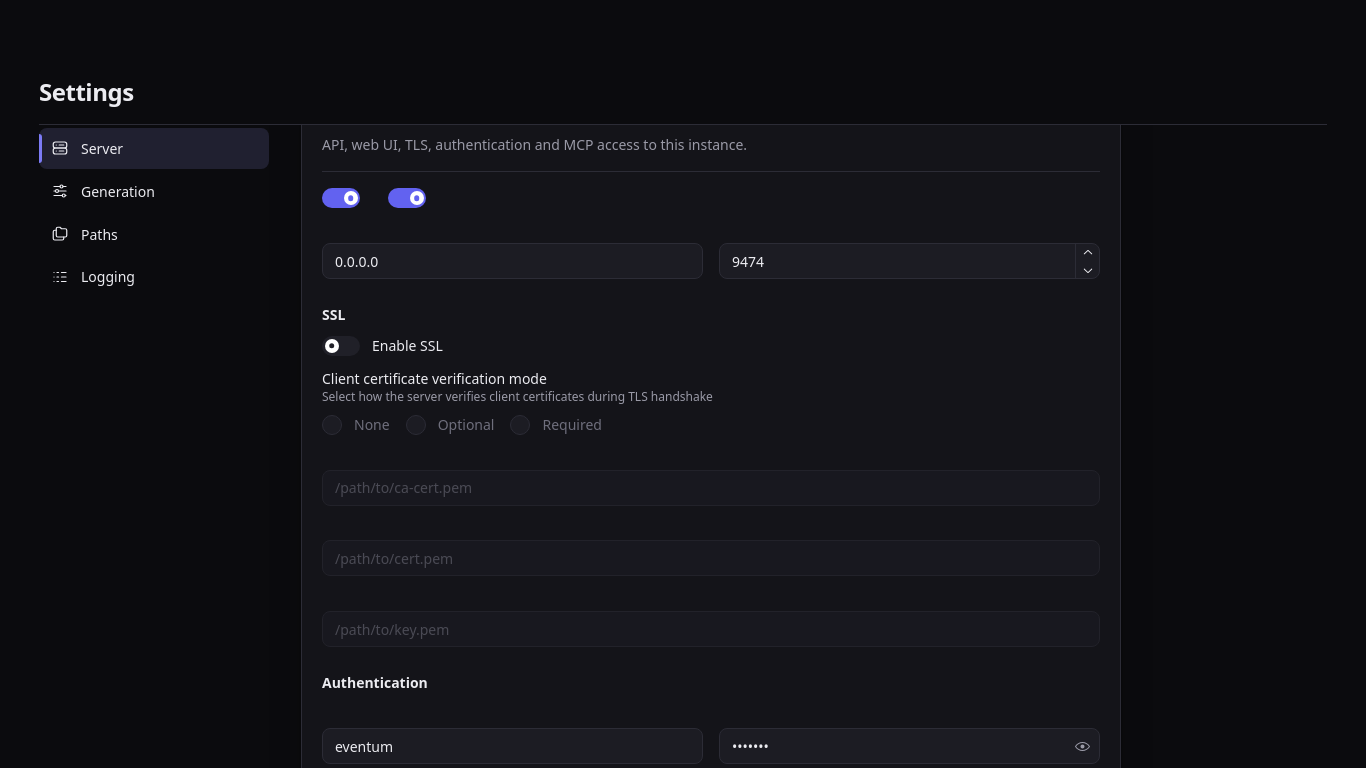
Test: SettingsPage › shows the stored generation defaults once that section is opened
Click the text "Generation" at {"x": 118, "y": 191}, box [81,182,155,201]
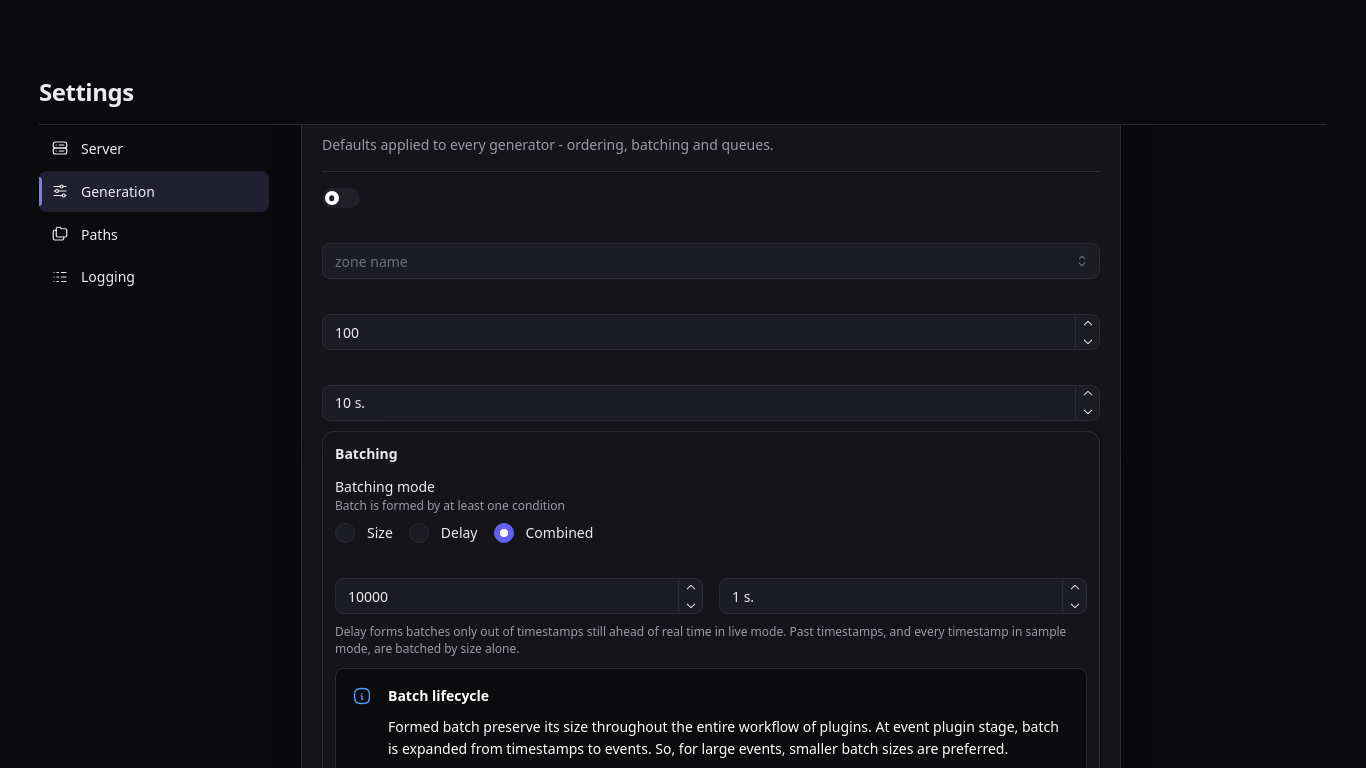
Expected: the 3rd field showing "10000" is shown, [335,578,703,614]
